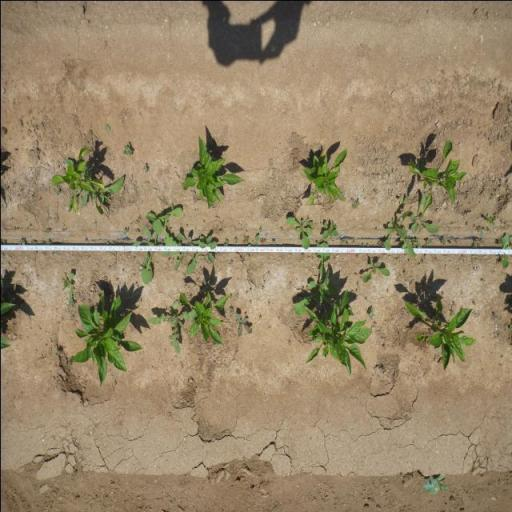plant: (300, 286, 373, 381), (73, 290, 143, 387), (401, 293, 478, 373), (406, 128, 469, 216), (180, 132, 246, 210), (49, 145, 105, 218), (297, 141, 348, 211), (176, 287, 230, 346)
weed: (288, 240, 339, 316), (145, 297, 196, 356), (131, 217, 169, 285), (80, 174, 126, 219), (143, 205, 182, 255), (408, 189, 440, 237), (184, 234, 217, 275), (393, 209, 415, 258), (285, 215, 313, 250), (361, 257, 392, 283), (422, 472, 451, 498), (175, 231, 205, 256), (60, 270, 75, 308), (497, 232, 512, 268), (234, 312, 253, 338), (384, 217, 397, 250), (320, 218, 339, 240), (122, 140, 132, 156), (248, 233, 260, 246), (397, 195, 409, 207), (410, 236, 422, 248), (300, 215, 314, 225), (484, 214, 496, 225), (471, 238, 484, 248), (366, 305, 374, 320), (350, 196, 360, 208), (423, 238, 431, 248), (134, 214, 142, 224), (474, 224, 482, 233), (65, 358, 72, 368), (440, 236, 446, 247), (104, 240, 117, 245), (44, 238, 52, 246), (242, 233, 248, 243), (104, 122, 110, 132), (16, 238, 26, 244), (378, 366, 386, 373), (376, 239, 383, 247), (122, 226, 129, 234), (142, 163, 148, 172), (483, 226, 491, 232), (222, 238, 228, 246), (54, 348, 60, 356), (314, 240, 320, 248), (259, 238, 266, 244), (44, 226, 50, 232), (228, 306, 234, 312), (93, 218, 97, 226), (340, 238, 345, 244), (493, 312, 498, 318), (258, 225, 262, 232), (300, 252, 304, 258), (60, 228, 66, 232), (30, 240, 36, 244), (229, 258, 233, 264), (234, 237, 237, 244), (450, 240, 452, 246), (136, 228, 138, 232), (272, 240, 274, 243)
